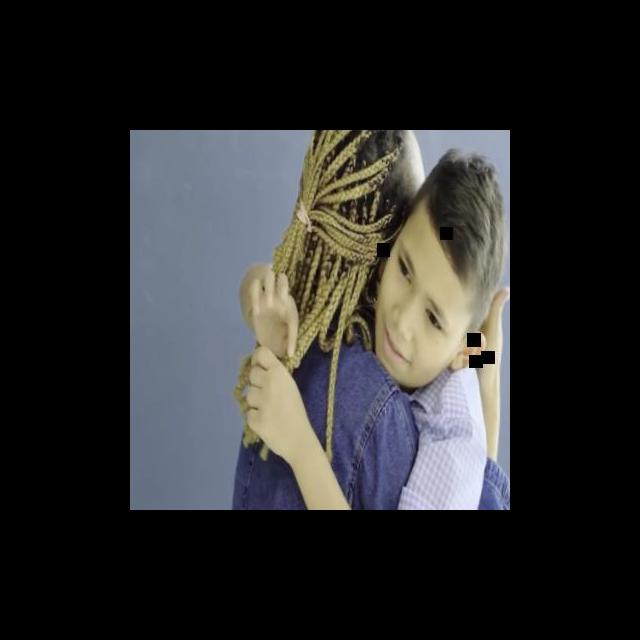male: (398, 152, 510, 430)
